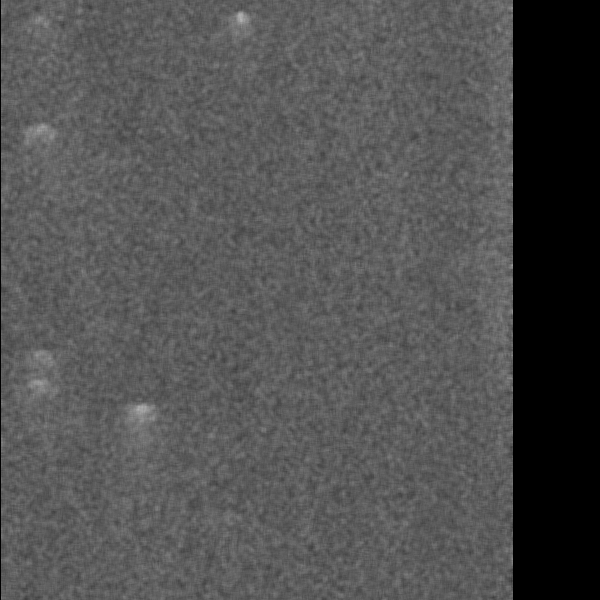spark: (124, 399, 163, 457), (13, 120, 61, 144), (227, 7, 250, 56), (26, 346, 56, 364), (25, 374, 50, 393), (29, 9, 49, 30)
